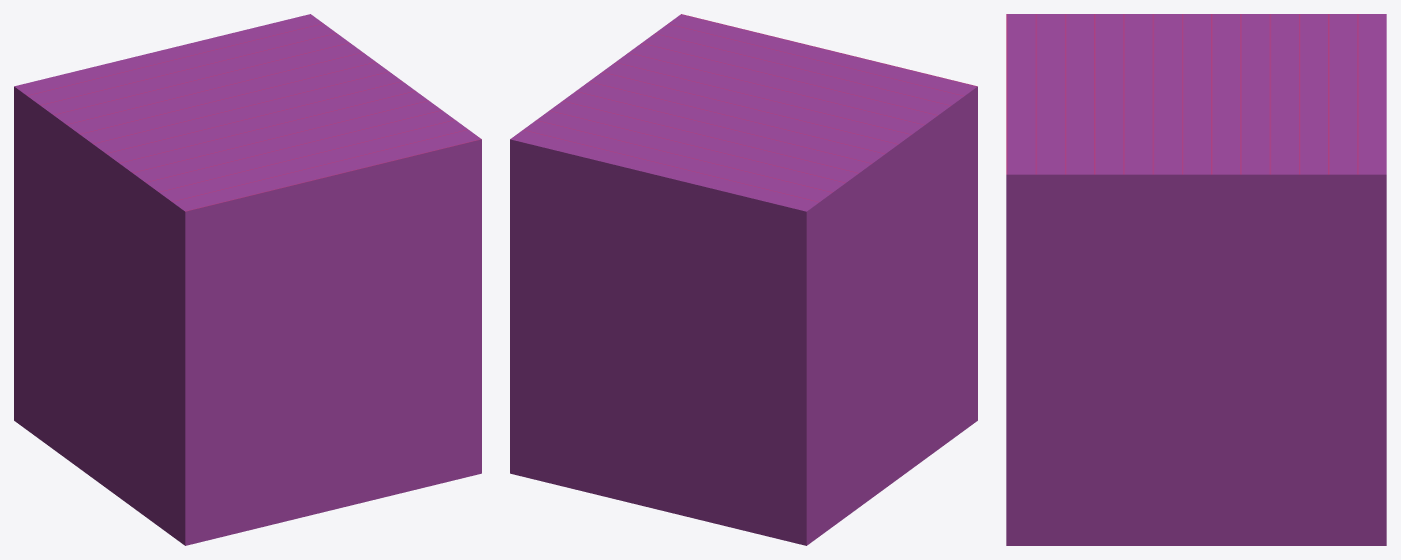
Rendered from rbshock.obj.
3 views of the same model, side by side, from view 1: azimuth 30°, elevation 25°; view 2: azimuth 150°, elevation 25°; view 3: azimuth 270°, elevation 25° (orthographic). The views are drawn at different scales.
Parts seen in each view (by area): view 1: white_concrete, yellow_concrete, red_concrete, orange_concrete, lime_concrete, light_blue_concrete, magenta_concrete; view 2: white_concrete, yellow_concrete, orange_concrete, lime_concrete, red_concrete, light_blue_concrete, magenta_concrete; view 3: white_concrete, yellow_concrete, orange_concrete, red_concrete, light_blue_concrete, magenta_concrete, lime_concrete.
Boxes of the visible parts, x1=… form: white_concrete: x1=14, y1=14, x2=481, y2=545; yellow_concrete: x1=14, y1=78, x2=367, y2=497; red_concrete: x1=223, y1=44, x2=458, y2=447; orange_concrete: x1=191, y1=61, x2=390, y2=458; lime_concrete: x1=27, y1=153, x2=171, y2=478; light_blue_concrete: x1=40, y1=249, x2=158, y2=449; magenta_concrete: x1=66, y1=388, x2=119, y2=473; white_concrete: x1=510, y1=14, x2=977, y2=545; yellow_concrete: x1=624, y1=61, x2=977, y2=497; orange_concrete: x1=578, y1=55, x2=882, y2=458; lime_concrete: x1=820, y1=130, x2=964, y2=487; red_concrete: x1=533, y1=44, x2=745, y2=447; light_blue_concrete: x1=833, y1=249, x2=951, y2=478; magenta_concrete: x1=859, y1=421, x2=911, y2=459; white_concrete: x1=1006, y1=14, x2=1386, y2=545; yellow_concrete: x1=1065, y1=14, x2=1327, y2=360; orange_concrete: x1=1065, y1=51, x2=1327, y2=360; red_concrete: x1=1065, y1=113, x2=1327, y2=360; light_blue_concrete: x1=1240, y1=280, x2=1298, y2=360; magenta_concrete: x1=1299, y1=254, x2=1327, y2=360; lime_concrete: x1=1211, y1=334, x2=1240, y2=360.
Size of the model in its own units: 0.8125 by 0.875 by 0.8125.
